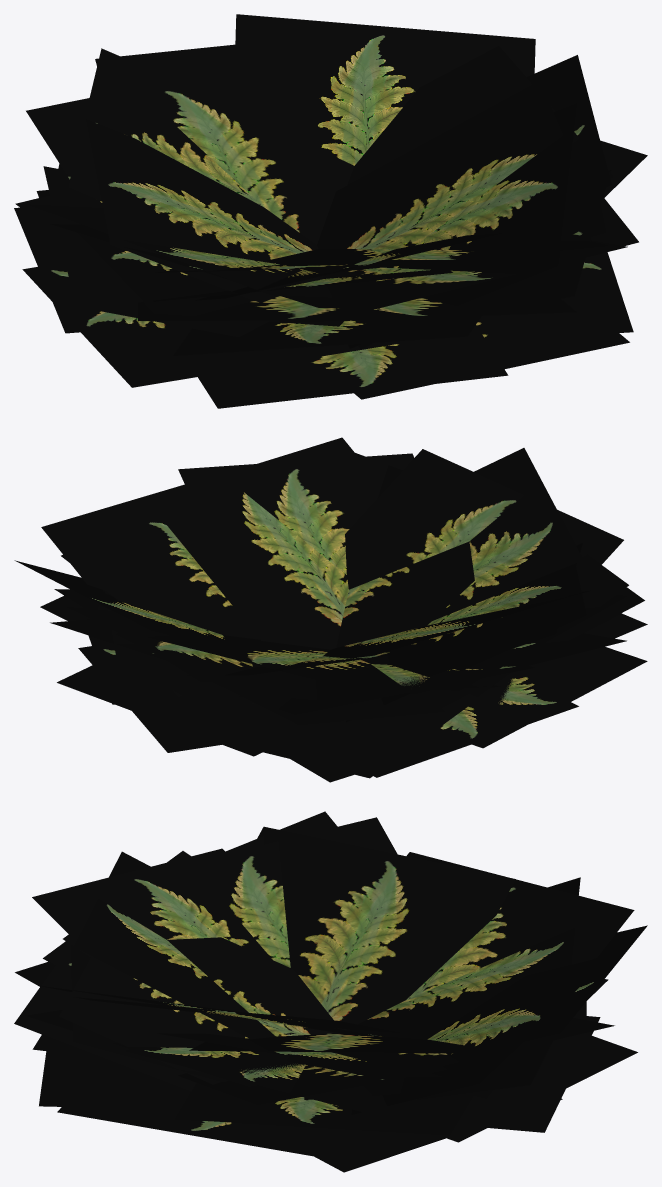
Rendered from FrondBush.fbx.
The picture shows the model from 3 angles, top to bottom: view 1: azimuth 30°, elevation 25°; view 2: azimuth 150°, elevation 25°; view 3: azimuth 270°, elevation 25°; orthographic projection. The views are drawn at different scales.
Parts seen in each view (by area): view 1: Plane.032, Plane.039, Plane.029, Plane.034, Plane.036, Plane.015, Plane.018, Plane.028, Plane.038, Plane.026, Plane.014, Plane.030 (+18 smaller); view 2: Plane.039, Plane.023, Plane.038, Plane.036, Plane.025, Plane.021, Plane.024, Plane.002, Plane.018, Plane.034, Plane.033, Plane.006 (+20 smaller); view 3: Plane.029, Plane.021, Plane.025, Plane.032, Plane.028, Plane.023, Plane.024, Plane.010, Plane.034, Plane.007, Plane.014, Plane.013 (+18 smaller).
Boxes of the visible parts, left/top/right/bottom form: Plane.032: left=233, top=14, right=535, bottom=165; Plane.039: left=317, top=81, right=599, bottom=349; Plane.029: left=86, top=119, right=318, bottom=302; Plane.034: left=26, top=68, right=354, bottom=244; Plane.036: left=348, top=103, right=577, bottom=348; Plane.015: left=198, top=325, right=508, bottom=408; Plane.018: left=22, top=267, right=404, bottom=387; Plane.028: left=68, top=48, right=262, bottom=206; Plane.038: left=347, top=46, right=612, bottom=185; Plane.026: left=173, top=316, right=481, bottom=355; Plane.014: left=354, top=296, right=629, bottom=399; Plane.030: left=77, top=233, right=343, bottom=326; Plane.039: left=145, top=437, right=357, bottom=649; Plane.023: left=345, top=449, right=623, bottom=689; Plane.038: left=61, top=511, right=259, bottom=704; Plane.036: left=178, top=453, right=414, bottom=628; Plane.025: left=432, top=448, right=597, bottom=620; Plane.021: left=336, top=453, right=474, bottom=647; Plane.024: left=387, top=543, right=582, bottom=676; Plane.002: left=263, top=681, right=501, bottom=778; Plane.018: left=472, top=646, right=647, bottom=748; Plane.034: left=145, top=635, right=500, bottom=692; Plane.033: left=67, top=607, right=381, bottom=705; Plane.006: left=78, top=646, right=415, bottom=752; Plane.029: left=257, top=826, right=515, bottom=1029; Plane.021: left=59, top=937, right=340, bottom=1084; Plane.025: left=32, top=848, right=272, bottom=959; Plane.032: left=351, top=955, right=612, bottom=1114; Plane.028: left=406, top=852, right=634, bottom=1098; Plane.023: left=74, top=851, right=275, bottom=1039; Plane.024: left=189, top=817, right=397, bottom=967; Plane.010: left=175, top=1083, right=474, bottom=1135; Plane.034: left=347, top=877, right=580, bottom=1039; Plane.007: left=253, top=1083, right=562, bottom=1172; Plane.014: left=39, top=1051, right=190, bottom=1109; Plane.013: left=14, top=944, right=196, bottom=1091.
Bounding box in the file's own units: 449 × 117 × 454.
